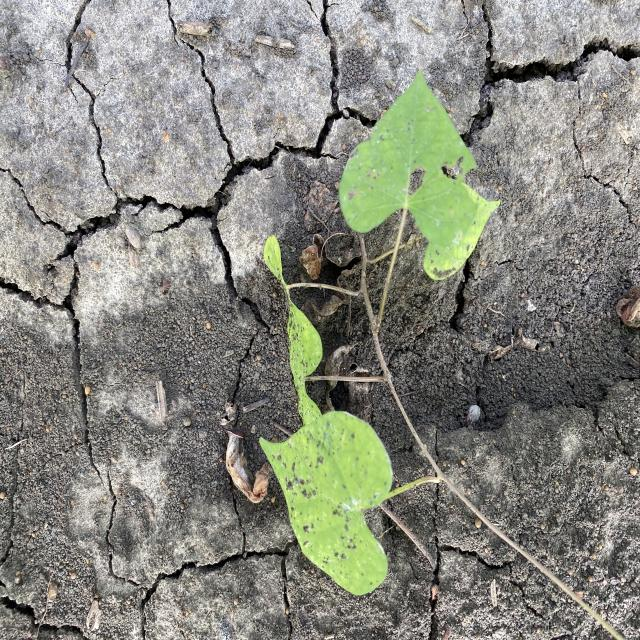MorningGlory: (258, 66, 630, 636)
